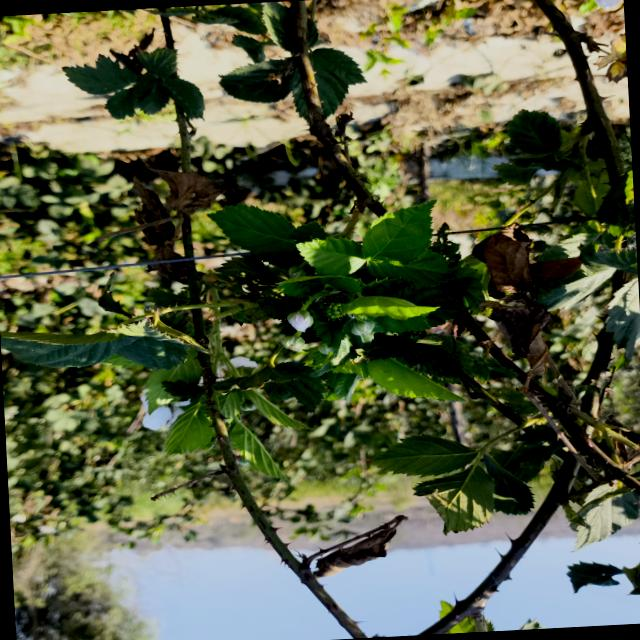boton: (287, 310, 313, 331), (352, 316, 375, 336), (282, 333, 305, 350), (318, 343, 334, 355)
